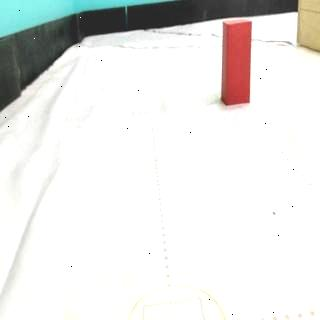redbox: (220, 18, 253, 105)
